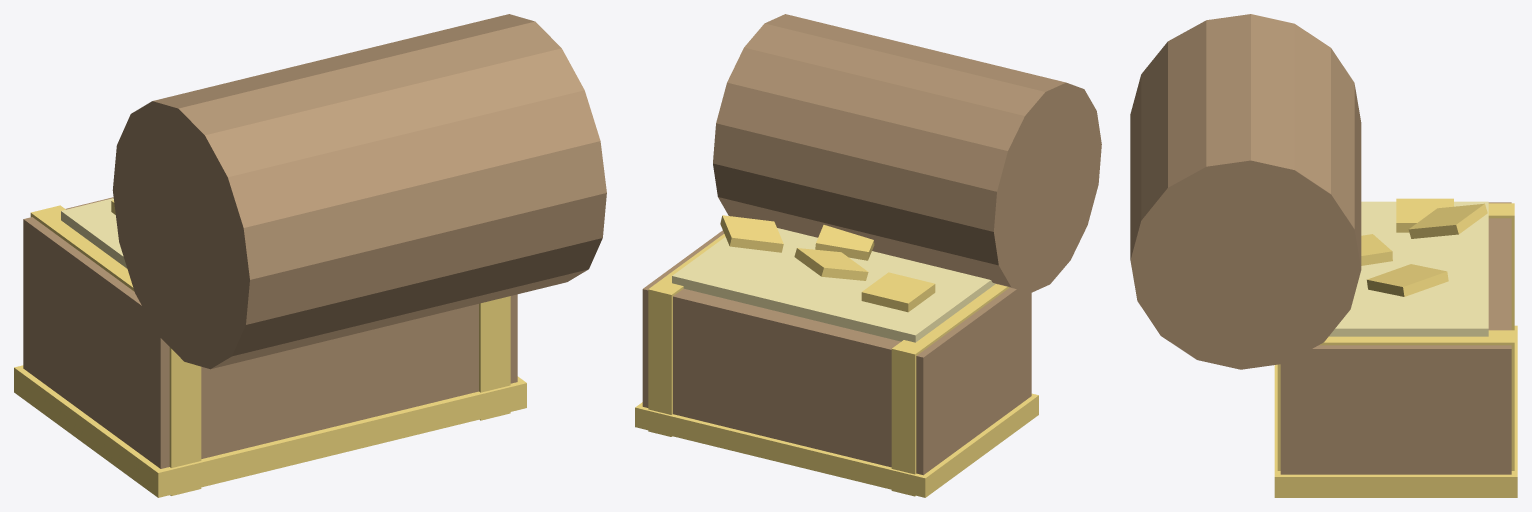
The model's file is QuestChestOpen.fbx.
3 renders of one model, left to right at view 1: azimuth 30°, elevation 25°; view 2: azimuth 150°, elevation 25°; view 3: azimuth 270°, elevation 25°, orthographic. The views are drawn at different scales.
Visible parts, largest first — view 1: Chest_Lid.001, Chest_Body.001, Chest_Gold.005, Chest_Gold.006, Chest_Gold.007, Chest_Glow; view 2: Chest_Lid.001, Chest_Body.001, Chest_Glow, Chest_Gold.005, Chest_Gold.006, Chest_Gold.007, Chest_Coin, Chest_Coin.002, Chest_Coin.003, Chest_Coin.001; view 3: Chest_Lid.001, Chest_Body.001, Chest_Glow, Chest_Gold.005, Chest_Gold.007, Chest_Coin.002, Chest_Coin.003, Chest_Coin, Chest_Gold.006, Chest_Coin.001.
Boxes of the visible parts, left/top/right/bottom form: Chest_Lid.001: left=112, top=14, right=606, bottom=369; Chest_Body.001: left=23, top=197, right=517, bottom=468; Chest_Gold.005: left=14, top=365, right=526, bottom=497; Chest_Gold.006: left=30, top=205, right=201, bottom=495; Chest_Gold.007: left=479, top=296, right=510, bottom=420; Chest_Glow: left=61, top=198, right=127, bottom=268; Chest_Lid.001: left=713, top=14, right=1101, bottom=292; Chest_Body.001: left=642, top=230, right=1031, bottom=475; Chest_Glow: left=672, top=228, right=995, bottom=342; Chest_Gold.005: left=635, top=393, right=1038, bottom=497; Chest_Gold.006: left=891, top=284, right=1009, bottom=496; Chest_Gold.007: left=648, top=234, right=725, bottom=436; Chest_Coin: left=861, top=272, right=935, bottom=312; Chest_Coin.002: left=720, top=215, right=783, bottom=252; Chest_Coin.003: left=794, top=248, right=868, bottom=280; Chest_Coin.001: left=815, top=225, right=874, bottom=260; Chest_Lid.001: left=1130, top=14, right=1361, bottom=369; Chest_Body.001: left=1280, top=202, right=1511, bottom=474; Chest_Glow: left=1329, top=201, right=1488, bottom=336; Chest_Gold.005: left=1274, top=325, right=1517, bottom=497; Chest_Gold.007: left=1277, top=330, right=1514, bottom=470; Chest_Coin.002: left=1367, top=264, right=1448, bottom=296; Chest_Coin.003: left=1408, top=203, right=1487, bottom=238; Chest_Coin: left=1396, top=198, right=1453, bottom=232; Chest_Gold.006: left=1488, top=203, right=1514, bottom=330; Chest_Coin.001: left=1361, top=234, right=1392, bottom=265.
Bounding box in the file's own units: 174 × 181 × 188.
